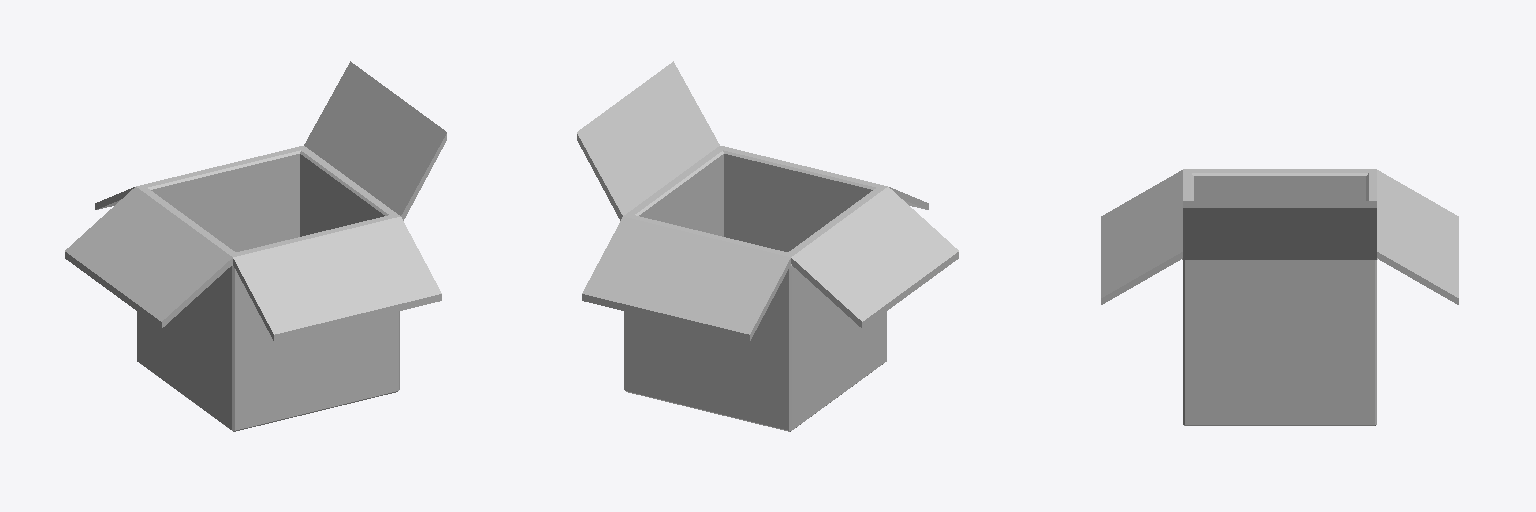
File: Cardboard Box.obj
3 views of the same model, side by side, from view 1: azimuth 30°, elevation 25°; view 2: azimuth 150°, elevation 25°; view 3: azimuth 270°, elevation 25° (orthographic).
Visible parts, largest first — view 1: initialShadingGroup pCube1; view 2: initialShadingGroup pCube1; view 3: initialShadingGroup pCube1.
Boxes of the visible parts, x1,y1,x2,y2 form: initialShadingGroup pCube1: [65, 61, 446, 431]; initialShadingGroup pCube1: [577, 61, 958, 431]; initialShadingGroup pCube1: [1101, 169, 1458, 425].
Bounding box in the file's own units: 8.82 × 7.33 × 9.59.